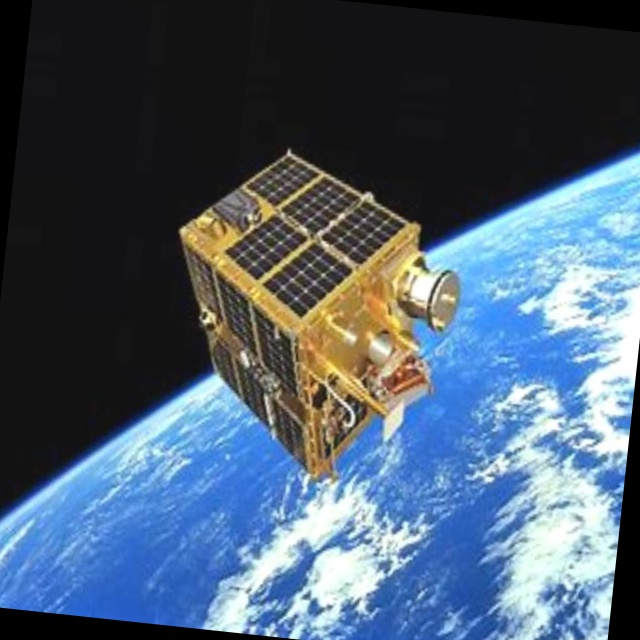satellite: (132, 112, 472, 511)
